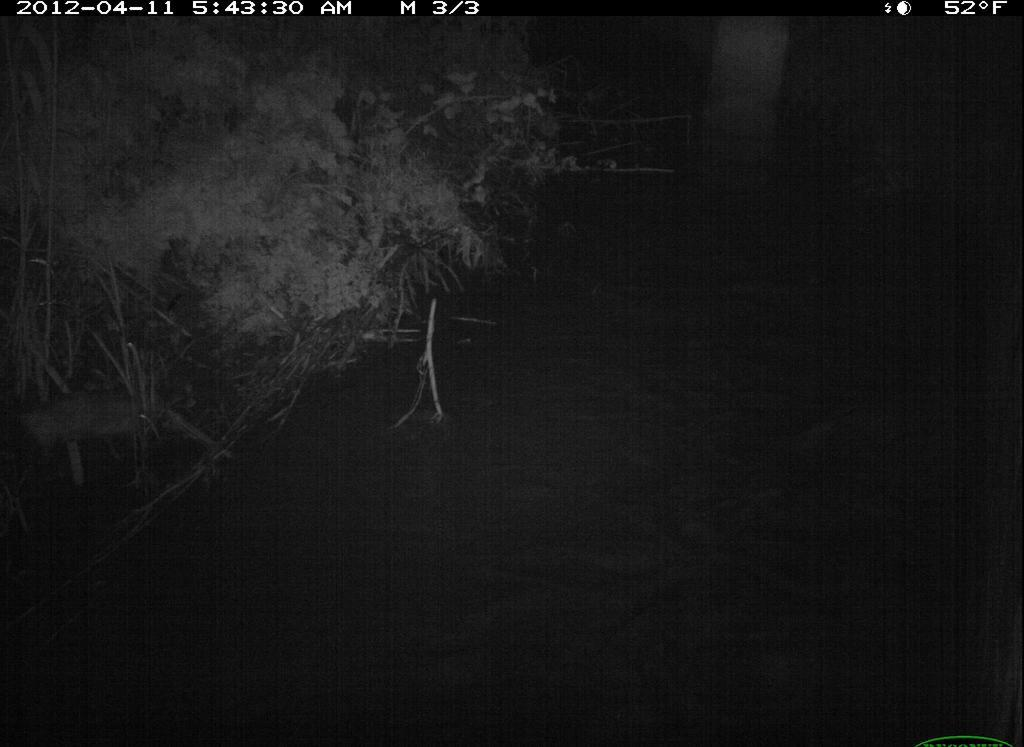opossum: (11, 368, 214, 481)
